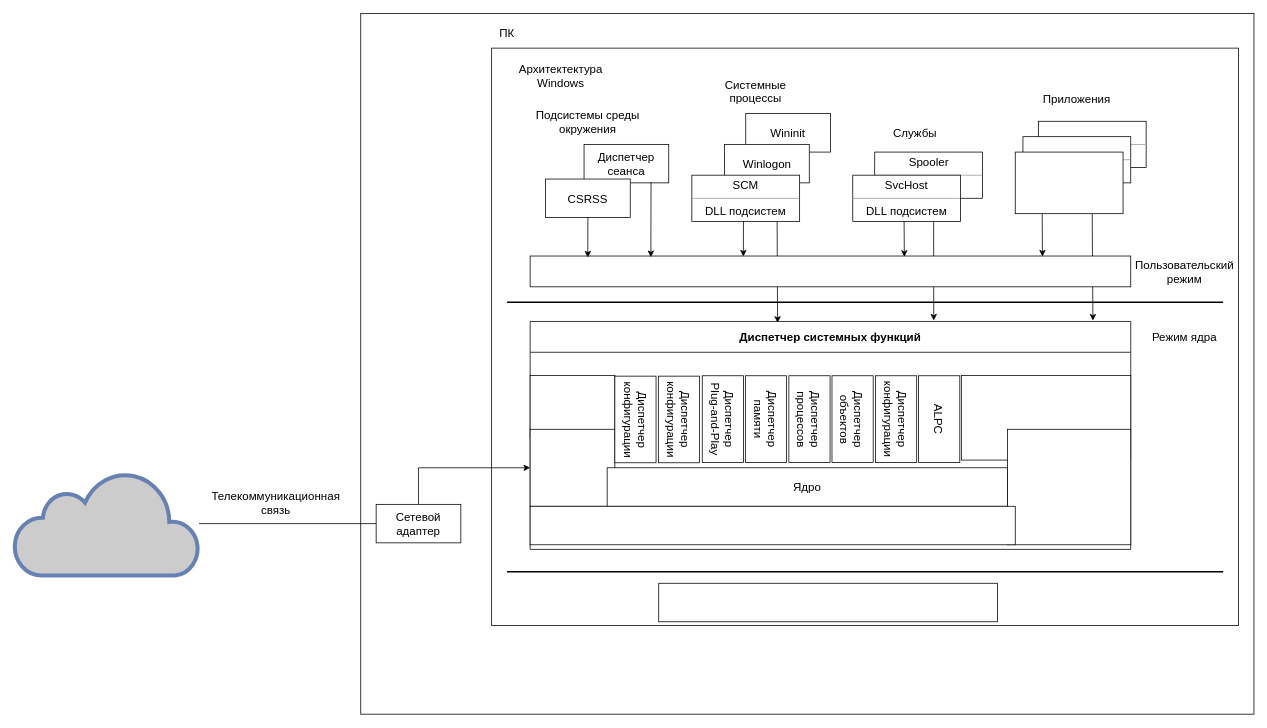
Image size: 1267x728. Some labels were removed from this diagram. The shapes that lost their labels are listed below. From the top down, each one's centre as x and y in pixels, then its label:
At (1068,182): "Пользовательский процесс DLL подсистем".
At (830,271): "NTDLL.DLL".
At (572,406): "Диспетчер ввода/вывода".
At (1046,417): "WIndows User, GDI".
At (572,467): "Драйверы устройств и файловой системы".
At (1069,487): "Графические драйверы".
At (106,523): "Интернет".
At (772,525): "Слой абстрагирования оборудования (HAL)".
At (828,602): "Гипервизор Hyper-V".
